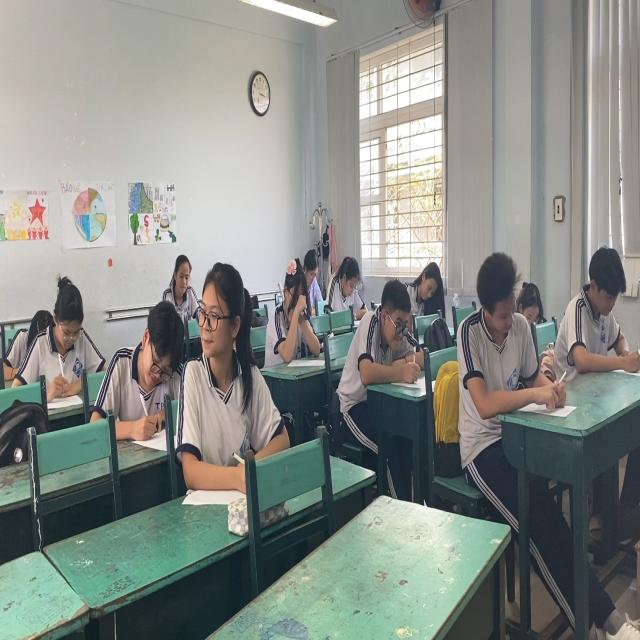cheating: (182, 264, 253, 454)
not_cheating: (460, 250, 550, 423), (566, 243, 632, 374), (29, 267, 98, 384), (110, 305, 180, 419), (348, 281, 418, 395), (265, 261, 323, 370), (327, 253, 366, 329), (162, 250, 195, 315), (405, 257, 444, 308)
